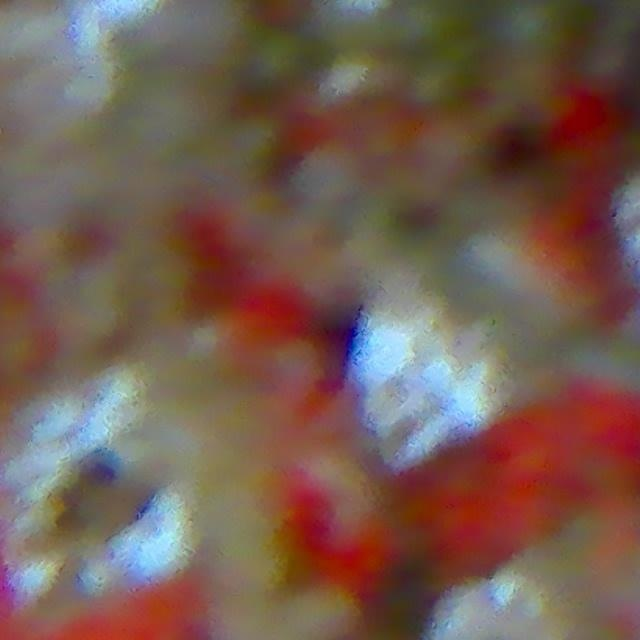SeaGrape: (496, 0, 568, 59), (247, 27, 307, 88)
